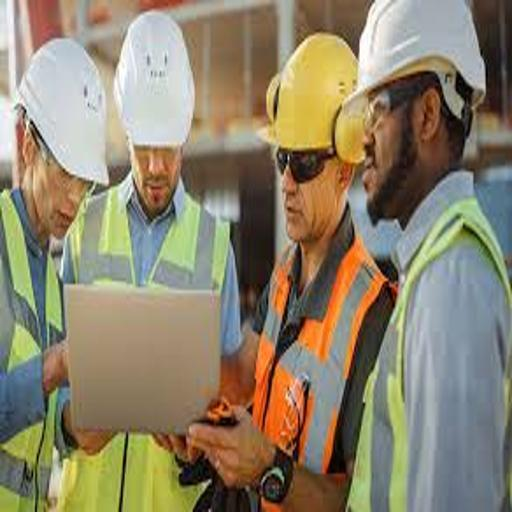Hard_hat: (336, 1, 512, 113), (250, 21, 374, 171), (15, 32, 128, 189), (122, 13, 202, 151)
Humans: (325, 1, 512, 512), (100, 6, 245, 512), (250, 14, 373, 512), (2, 33, 107, 512)
Vest: (346, 173, 512, 512), (82, 191, 232, 512), (252, 218, 388, 512), (4, 190, 76, 512)
Visor: (348, 76, 449, 127), (267, 146, 340, 183)
